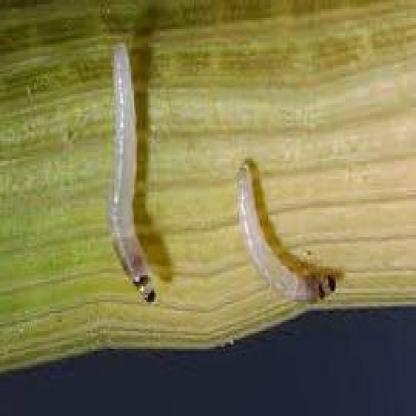whorl-maggot: (234, 158, 346, 312), (102, 33, 164, 310)
